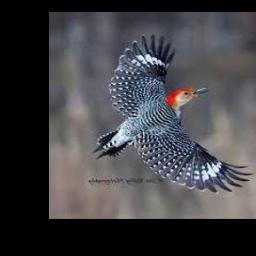Woodpecker: (92, 33, 253, 194)
